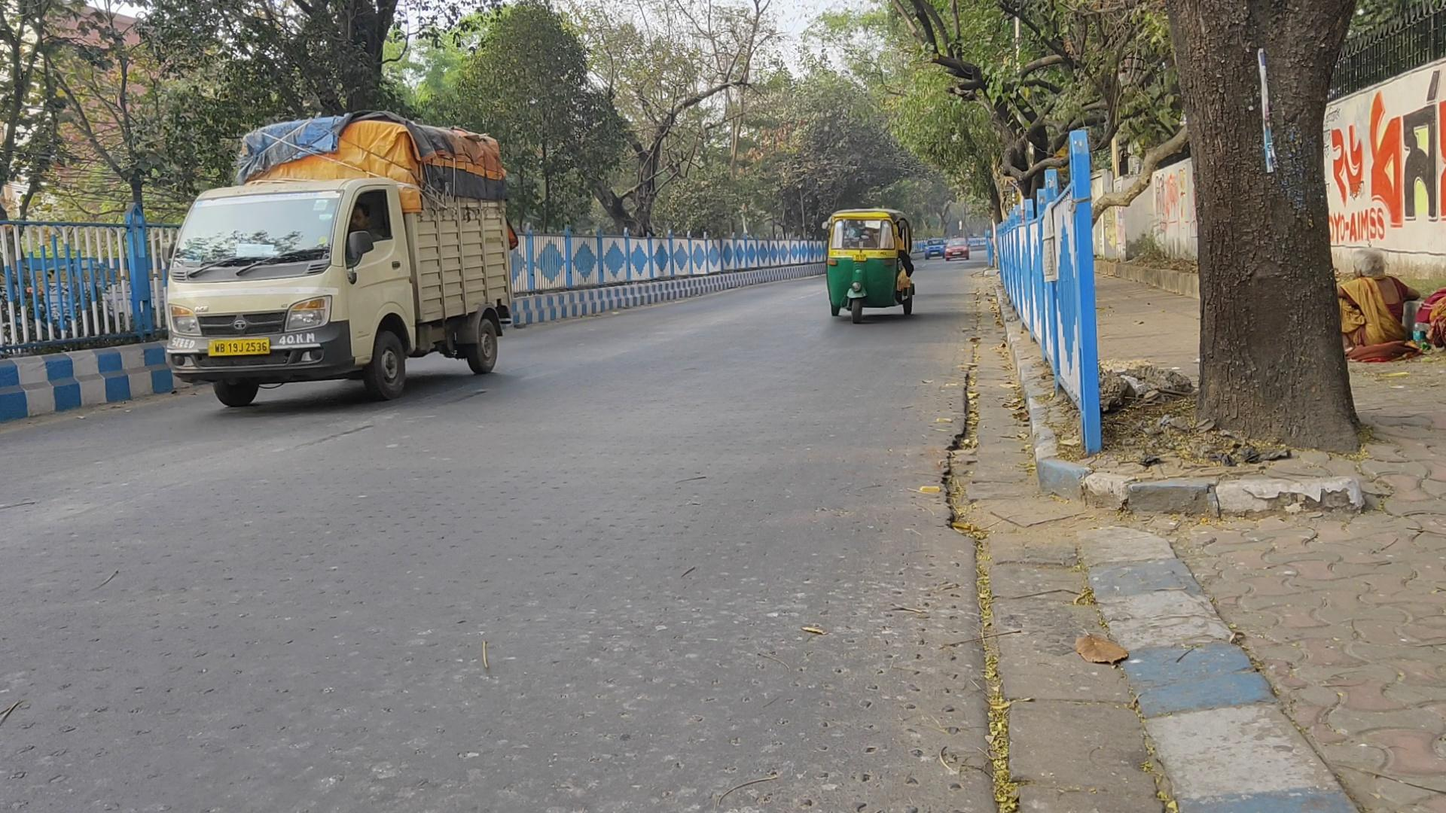Auto: (823, 206, 915, 325)
car: (943, 236, 972, 261), (923, 237, 946, 260)
van: (164, 111, 514, 407)
